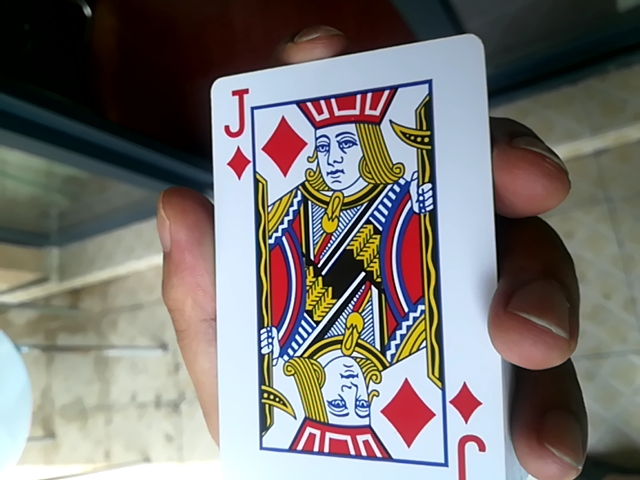fk j: (197, 41, 492, 477)
